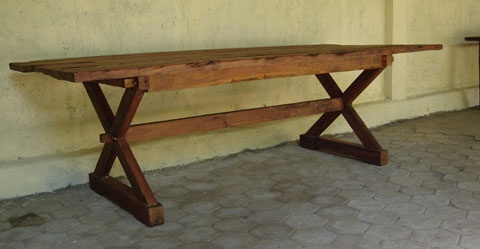obstacle: (10, 44, 441, 226)
